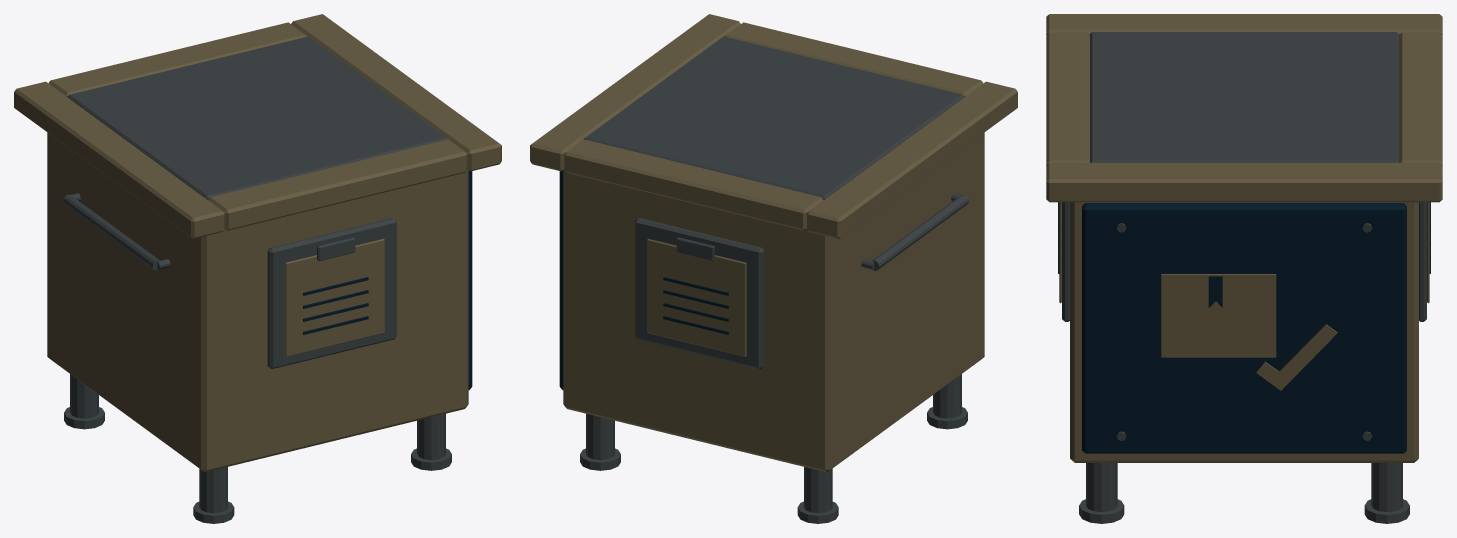
Rendered from SM_DeliveryCounter_A.fbx.
3 views of the same model, side by side, from view 1: azimuth 30°, elevation 25°; view 2: azimuth 150°, elevation 25°; view 3: azimuth 270°, elevation 25° (orthographic). The views are drawn at different scales.
Visible parts, largest first — view 1: SM_DeliveryCounter_A; view 2: SM_DeliveryCounter_A; view 3: SM_DeliveryCounter_A.
Part boxes in pixels (x1,y1,x2,y2): SM_DeliveryCounter_A: (14,14,501,523); SM_DeliveryCounter_A: (530,14,1017,523); SM_DeliveryCounter_A: (1046,14,1442,523).
Size of what is drawn, in the model's own units: 100 by 100 by 100.
